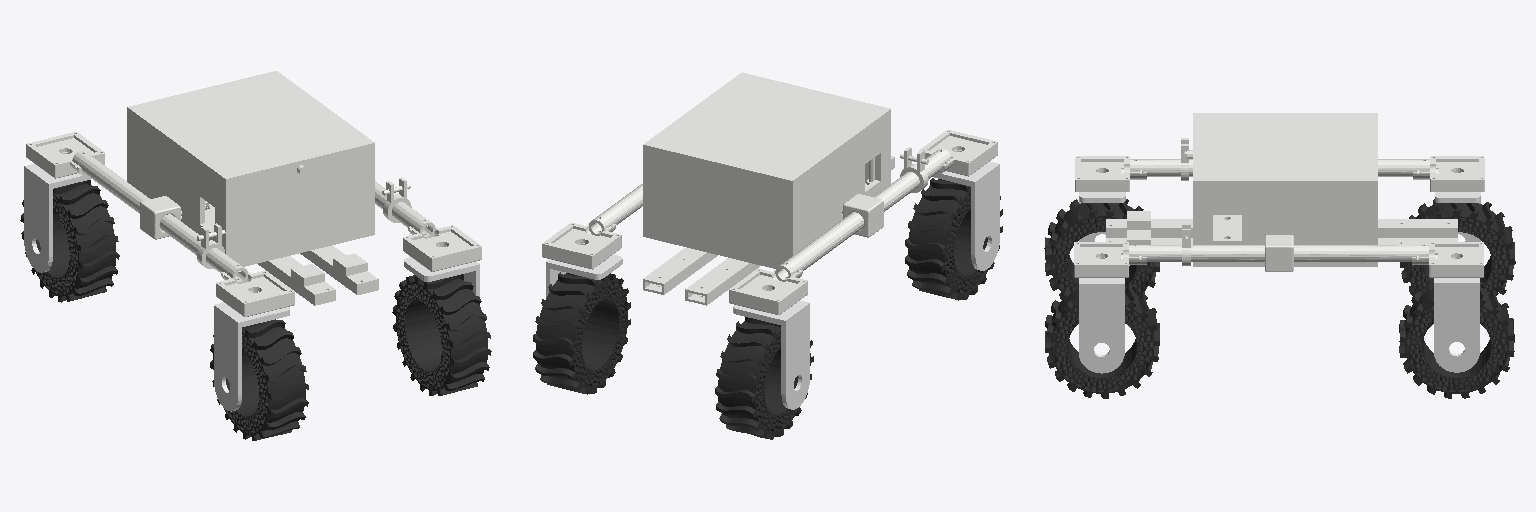
URDF robot description (rovermk2):
<?xml version="1.0" encoding="utf-8"?>
<robot name="rovermk2">

    <!-- Base Link  -->

    <link name="base_link">
        <inertial>
            <origin xyz="1.5107E-12 -0.010391 0.059342" rpy="0 0 0" />
            <!-- <mass value="3.9684" />
            <inertia ixx="0.068308" ixy="2.8787E-12" ixz="-8.8418E-14" iyy="0.03715"
                iyz="0.00010785" izz="0.091228" /> -->
            <mass value="20.0" />
            <inertia ixx="0.34424" ixy="1.4503E-11" ixz="-4.4546E-13"
                iyy="0.18723"
                iyz="0.00054354" izz="0.45979" />
        </inertial>
        <visual>
            <origin xyz="0 0 0" rpy="0 0 0" />
            <geometry>
                <mesh filename="package://rovermk2_description/meshes/base_link.STL" />
            </geometry>
            <material name="">
                <color rgba="0.96471 0.96471 0.95294 1" />
            </material>
        </visual>
        <collision>
            <origin xyz="0 0 0" rpy="0 0 0" />
            <geometry>
                <mesh filename="package://rovermk2_description/meshes/base_link.STL" />
            </geometry>
        </collision>
    </link>

    <!-- Suspension Links -->

    <link name="suspension_left">
        <inertial>
            <origin xyz="-0.085081 0.00042119 -0.0073347" rpy="0 0 0" />
            <!-- <mass value="0.69456" />
            <inertia ixx="0.00041573" ixy="-1.6646E-10" ixz="-3.1978E-09" iyy="0.0014467"
                iyz="2.2187E-10" izz="0.0017365" /> -->
            <mass value="5.0" />
            <inertia ixx="0.0029927" ixy="-1.1983E-09" ixz="-2.3018E-08"
                iyy="0.0104136"
                iyz="1.5973E-09" izz="0.0125038" />
        </inertial>
        <visual>
            <origin xyz="0.08875 0 0" rpy="0 0 0" />
            <geometry>
                <mesh filename="package://rovermk2_description/meshes/suspension_1.STL" />
            </geometry>
            <material name="">
                <color rgba="0.96471 0.96471 0.95294 1" />
            </material>
        </visual>
        <collision>
            <origin xyz="0 0 0" rpy="0 0 0" />
            <geometry>
                <mesh filename="package://rovermk2_description/meshes/suspension_1.STL" />
            </geometry>
        </collision>
    </link>

    <link name="suspension_right">
        <inertial>
            <origin xyz="0.0048172 -0.047933 -0.0073349" rpy="0 0 0" />
            <!-- <mass value="0.69456" />
                <inertia ixx="0.00041573" ixy="-2.7089E-10" ixz="3.1961E-09" iyy="0.0014467"
                    iyz="1.1348E-07" izz="0.0017365" /> -->
            <mass value="5.0" />
            <inertia ixx="0.0029927" ixy="-1.1983E-09" ixz="-2.3018E-08"
                iyy="0.0104136"
                iyz="1.5973E-09" izz="0.0125038" />
        </inertial>
        <visual>
            <origin xyz="0 0.0475 0" rpy="0 0 0" />
            <geometry>
                <mesh filename="package://rovermk2_description/meshes/suspension_2.STL" />
            </geometry>
            <material name="">
                <color rgba="0.96471 0.96471 0.95294 1" />
            </material>
        </visual>
        <collision>
            <origin xyz="0 0 0" rpy="0 0 0" />
            <geometry>
                <mesh filename="package://rovermk2_description/meshes/suspension_2.STL" />
            </geometry>
        </collision>
    </link>

    <!-- Suspension Joints Closed Loop thus with gazebo tags -->

    <joint name="susleft_joint" type="fixed">
        <origin xyz="-0.175 -0.01 0.043" rpy="0 0 -1.5708" />
        <parent link="base_link" />
        <child link="suspension_left" />
        <axis xyz="0 1 0" />
        <limit lower="-0.174" upper="0.174" effort="100" velocity="1" />
    </joint>

    <joint name="susright_joint" type="fixed">
        <origin xyz="0.175 -0.01 0.043" rpy="0 1.7626E-05 -1.5708" />
        <parent link="base_link" />
        <child link="suspension_right" />
        <axis xyz="0 1 0" />
        <limit lower="-0.174" upper="0.174" effort="100" velocity="1" />
    </joint>


    <!-- Steer Joints and Links -->

    <!-- Steer Front Left Joint and Link -->

    <link name="steerFL">
        <inertial>
            <origin xyz="-2.2204E-15 -0.032335 -0.05247" rpy="0 0 0" />
            <!-- <mass value="0.1576" />
            <inertia ixx="0.00057382" ixy="-5.2157E-17" ixz="-1.2839E-16" iyy="0.00051647"
                iyz="-0.00013791" izz="0.00023455" /> -->
            <mass value="1.5" />
            <inertia ixx="0.0054624" ixy="-4.9661E-16" ixz="-1.2221E-15"
                iyy="0.0049171"
                iyz="-0.0013127" izz="0.0022330" />
        </inertial>
        <visual>
            <origin xyz="0 0 0" rpy="0 0 0" />
            <geometry>
                <mesh filename="package://rovermk2_description/meshes/Steer_FL_1.STL" />
            </geometry>
            <material name="">
                <color rgba="0.96078 0.96078 0.96471 1" />
            </material>
        </visual>
        <collision>
            <origin xyz="0 0 0" rpy="0 0 0" />
            <geometry>
                <mesh filename="package://rovermk2_description/meshes/Steer_FL_1.STL" />
            </geometry>
        </collision>
    </link>
    <joint name="steerFL_joint" type="revolute">
        <origin xyz="-0.30875 0 -0.035" rpy="0 0 0" />
        <parent link="suspension_left" />
        <child link="steerFL" />
        <axis xyz="0 0 1" />
        <limit lower="-1.5708" upper="1.5708" effort="100" velocity="5.0"/>
        <dynamics damping="5.0" friction="2.0"/>
    </joint>

    <!-- Steer Front Right Joint and Link -->

    <link name="steer_FR">
        <inertial>
            <origin xyz="0.3075 0.025165 -0.08747" rpy="0 0 0" />
            <!-- <mass value="0.1576" />
            <inertia ixx="0.00057382" ixy="-5.2157E-17" ixz="-1.2839E-16" iyy="0.00051647"
                iyz="-0.00013791" izz="0.00023455" /> -->
            <mass value="1.5" />
            <inertia ixx="0.0054624" ixy="-4.9661E-16" ixz="-1.2221E-15"
                iyy="0.0049171"
                iyz="-0.0013127" izz="0.0022330" />
        </inertial>
        <visual>
            <origin xyz="-0.30751 -0.0475 0" rpy="0 0 0" />
            <geometry>
                <mesh filename="package://rovermk2_description/meshes/steer_FR.STL" />
            </geometry>
            <material name="">
                <color rgba="0.96078 0.96078 0.96471 1" />
            </material>
        </visual>
        <collision>
            <origin xyz="0 0 0" rpy="0 0 0" />
            <geometry>
                <mesh filename="package://rovermk2_description/meshes/steer_FR.STL" />
            </geometry>
        </collision>
    </link>
    <joint name="steerFR_joint" type="revolute">
        <origin xyz="-0.30751 0.0 0" rpy="0 0 3.1416" />
        <parent link="suspension_right" />
        <child link="steer_FR" />
        <axis xyz="5.9526E-05 0 1" />
        <limit lower="-1.5708" upper="1.5708" effort="100" velocity="5.0"/>
        <dynamics damping="5.0" friction="2.0"/>

    </joint>


    <!-- Steer Back Left Joint and Link -->

    <link name="steer_BL">
        <inertial>
            <origin xyz="-2.7756E-15 -0.032335 -0.05247" rpy="0 0 0" />
            <!-- <mass value="0.1576" />
            <inertia ixx="0.00057382" ixy="-5.2157E-17" ixz="-1.2839E-16" iyy="0.00051647"
                iyz="-0.00013791" izz="0.00023455" /> -->
            <mass value="1.5" />
            <inertia ixx="0.0054624" ixy="-4.9661E-16" ixz="-1.2221E-15"
                iyy="0.0049171"
                iyz="-0.0013127" izz="0.0022330" />
        </inertial>
        <visual>
            <origin xyz="0 0 0" rpy="0 0 0" />
            <geometry>
                <mesh filename="package://rovermk2_description/meshes/steer_BL.STL" />
            </geometry>
            <material name="">
                <color rgba="0.96078 0.96078 0.96471 1" />
            </material>
        </visual>
        <collision>
            <origin xyz="0 0 0" rpy="0 0 0" />
            <geometry>
                <mesh filename="package://rovermk2_description/meshes/steer_BL.STL" />
            </geometry>
        </collision>
    </link>
    <joint name="steerBL_joint" type="revolute">
        <origin xyz="0.30625 0 -0.035" rpy="0 0 0" />
        <parent link="suspension_left" />
        <child link="steer_BL" />
        <axis xyz="0 0 1" />
        <limit lower="-1.5708" upper="1.5708" effort="100" velocity="5.0"/>
        <dynamics damping="5.0" friction="2.0"/>

    </joint>

    <!-- Steer Back Right Joint and Link-->

    <link name="steer_BR">
        <inertial>
            <origin xyz="-0.30751 0.021928 -0.087669" rpy="0 0 0" />
            <!-- <mass value="0.1576" />
            <inertia ixx="0.00057382" ixy="-5.2157E-17" ixz="-1.2839E-16" iyy="0.00051647"
                iyz="-0.00013791" izz="0.00023455" /> -->
            <mass value="1.5" />
            <inertia ixx="0.0054624" ixy="-4.9661E-16" ixz="-1.2221E-15"
                iyy="0.0049171"
                iyz="-0.0013127" izz="0.0022330" />
        </inertial>

        <visual>
            <origin xyz="0.30625 -0.0475 0" rpy="0 0 0" />
            <geometry>
                <mesh filename="package://rovermk2_description/meshes/steer_BR.STL" />
            </geometry>
            <material name="">
                <color rgba="0.96078 0.96078 0.96471 1" />
            </material>
        </visual>
        <collision>
            <origin xyz="0 0 0" rpy="0 0 0" />
            <geometry>
                <mesh filename="package://rovermk2_description/meshes/steer_BR.STL" />
            </geometry>
        </collision>
    </link>
    <joint name="steerBR_joint" type="revolute">
        <origin xyz="0.30625 0.0 0.00019885" rpy="0 0 3.1416" />
        <parent link="suspension_right" />
        <child link="steer_BR" />
        <axis xyz="5.9526E-05 0 1" />
        <limit lower="-1.5708" upper="1.5708" effort="100" velocity="5.0"/>
        <dynamics damping="5.0" friction="2.0"/>

    </joint>


    <!-- All Wheels Joints and Links -->

    <link name="wheelFL">
        <inertial>
            <origin xyz="-1.2482E-05 1.1067E-05 -9.9464E-06" rpy="0 0 0" />
            <!-- <mass value="0.57698" />
            <inertia ixx="0.0021487" ixy="-1.7024E-08" ixz="-8.7398E-08" iyy="0.0038235"
                iyz="8.3831E-09" izz="0.0021487" /> -->
            <mass value="2.0" />
            <inertia ixx="0.0074488" ixy="-5.9009E-08" ixz="-3.0294E-07"
                iyy="0.0132488"
                iyz="2.9057E-08" izz="0.0074488" />
        </inertial>
        <visual>
            <origin xyz="0 0 0" rpy="0 0 0" />
            <geometry>
                <mesh filename="package://rovermk2_description/meshes/wheelFL.STL" />
            </geometry>
            <material name="">
                <color rgba="0.24706 0.24706 0.24706 1" />
            </material>
        </visual>
        <collision>
            <origin xyz="0 0 0" rpy="0 0 0" />
            <geometry>
                <mesh filename="package://rovermk2_description/meshes/wheelFL.STL" />
            </geometry>
        </collision>
    </link>
    <joint name="wheelFL_joint" type="continuous">
        <origin xyz="0 0.008 -0.127" rpy="0 -0.031506 3.1416" />
        <parent link="steerFL" />
        <child link="wheelFL" />
        <axis xyz="0 1 0" />
        <!-- <limit lower="-1.5708" upper="1.5708" effort="100" velocity="0.25"/> -->
    </joint>

    <link name="wheelBL">
        <inertial>
            <origin xyz="-1.4946E-05 8.1816E-06 -7.8177E-06" rpy="0 0 0" />
            <!-- <mass value="0.57701" />
            <inertia ixx="0.0021482" ixy="-3.9981E-08" ixz="-7.3417E-08" iyy="0.0038226"
                iyz="-2.1036E-08" izz="0.0021482" /> -->
            <mass value="2.0" />
            <inertia ixx="0.0074488" ixy="-5.9009E-08" ixz="-3.0294E-07"
                iyy="0.0132488"
                iyz="2.9057E-08" izz="0.0074488" />
        </inertial>
        <visual>
            <origin xyz="0 0 0" rpy="0 0 0" />
            <geometry>
                <mesh filename="package://rovermk2_description/meshes/wheelBL.STL" />
            </geometry>
            <material name="">
                <color rgba="0.24706 0.24706 0.24706 1" />
            </material>
        </visual>
        <collision>
            <origin xyz="0 0 0" rpy="0 0 0" />
            <geometry>
                <mesh filename="package://rovermk2_description/meshes/wheelBL.STL" />
            </geometry>
        </collision>
    </link>
    <joint name="wheelBL_joint" type="continuous">
        <origin xyz="0 0.008 -0.127" rpy="0 -0.19461 3.1416" />
        <parent link="steer_BL" />
        <child link="wheelBL" />
        <axis xyz="0 1 0" />
        <!-- <limit lower="0" upper="0" effort="0" velocity="0"/> -->
    </joint>
    <link name="wheelFR">
        <inertial>
            <origin xyz="-1.5082E-05 8.1816E-06 -6.5794E-06" rpy="0 0 0" />
            <!-- <mass value="0.57701" />
            <inertia ixx="0.0021482" ixy="-3.9981E-08" ixz="-7.3417E-08" iyy="0.0038226"
                iyz="-2.1036E-08" izz="0.0021482" /> -->
            <mass value="2.0" />
            <inertia ixx="0.0074488" ixy="-5.9009E-08" ixz="-3.0294E-07"
                iyy="0.0132488"
                iyz="2.9057E-08" izz="0.0074488" />
        </inertial>
        <visual>
            <origin xyz="0 0 0" rpy="0 0 0" />
            <geometry>
                <mesh filename="package://rovermk2_description/meshes/wheelFR.STL" />
            </geometry>
            <material name="">
                <color rgba="0.24706 0.24706 0.24706 1" />
            </material>
        </visual>
        <collision>
            <origin xyz="0 0 0" rpy="0 0 0" />
            <geometry>
                <mesh filename="package://rovermk2_description/meshes/wheelFR.STL" />
            </geometry>
        </collision>
    </link>
    <joint name="wheelFR_joint" type="continuous">
        <origin xyz="0.0 0.0 -0.162" rpy="0 -0.48916 0" />
        <parent link="steer_FR" />
        <child link="wheelFR" />
        <axis xyz="0 1 0" />
        <!-- <limit lower="0" upper="0" effort="0" velocity="0"/> -->
    </joint>
    <link name="wheelBR">
        <inertial>
            <origin xyz="-1.3322E-05 9.8794E-06 -8.7944E-06" rpy="0 0 0" />
            <!-- <mass value="0.57701" />
            <inertia ixx="0.0021482" ixy="-3.9981E-08" ixz="-7.3417E-08" iyy="0.0038226"
                iyz="-2.1036E-08" izz="0.0021482" /> -->
            <mass value="2.0" />
            <inertia ixx="0.0074488" ixy="-5.9009E-08" ixz="-3.0294E-07"
                iyy="0.0132488"
                iyz="2.9057E-08" izz="0.0074488" />
        </inertial>
        <visual>
            <origin xyz="0 0 0" rpy="0 0 0" />
            <geometry>
                <mesh filename="package://rovermk2_description/meshes/wheelBR.STL" />
            </geometry>
            <material name="">
                <color rgba="0.24706 0.24706 0.24706 1" />
            </material>
        </visual>
        <collision>
            <origin xyz="0 0 0" rpy="0 0 0" />
            <geometry>
                <mesh filename="package://rovermk2_description/meshes/wheelBR.STL" />
            </geometry>
        </collision>
    </link>
    <joint name="wheelBR_joint" type="continuous">
        <origin xyz="0 0.0 -0.1622" rpy="0 -0.069204 0" />
        <parent link="steer_BR" />
        <child link="wheelBR" />
        <axis xyz="0 1 0" />
        <!-- <limit lower="0" upper="0" effort="0" velocity="0"/> -->
    </joint>

</robot>

--- What the picture shows (computed from the rendered views, not written in the file) ---
3 views of the same robot in one strip: view 1: azimuth 30°, elevation 25°; view 2: azimuth 150°, elevation 25°; view 3: azimuth 270°, elevation 25° (orthographic).
Model rovermk2 with 11 links and 10 joints (4 revolute, 4 continuous, 2 fixed), rooted at base_link, posed every joint at zero.
Visible links, largest first — view 1: base_link, suspension_left, wheelBR, wheelBL, wheelFL, suspension_right, steer_BL, steerFL, steer_BR; view 2: base_link, suspension_left, wheelFR, wheelFL, wheelBL, suspension_right, steerFL, steer_BL, steer_FR; view 3: base_link, suspension_right, wheelFR, suspension_left, wheelBR, wheelFL, wheelBL, steer_BR, steer_FR, steer_BL, steerFL.
Boxes of the visible links, x1=… form: base_link: x1=127, y1=71, x2=378, y2=305; suspension_left: x1=26, y1=132, x2=294, y2=316; wheelBR: x1=392, y1=274, x2=491, y2=395; wheelBL: x1=210, y1=319, x2=308, y2=440; wheelFL: x1=20, y1=180, x2=119, y2=302; suspension_right: x1=375, y1=177, x2=481, y2=271; steer_BL: x1=214, y1=302, x2=289, y2=411; steerFL: x1=24, y1=164, x2=90, y2=272; steer_BR: x1=404, y1=257, x2=479, y2=296; base_link: x1=643, y1=72, x2=894, y2=305; suspension_left: x1=729, y1=130, x2=997, y2=314; wheelFR: x1=533, y1=272, x2=630, y2=394; wheelFL: x1=715, y1=317, x2=813, y2=439; wheelBL: x1=905, y1=178, x2=1002, y2=300; suspension_right: x1=542, y1=184, x2=642, y2=269; steerFL: x1=733, y1=301, x2=809, y2=409; steer_BL: x1=933, y1=162, x2=999, y2=270; steer_FR: x1=546, y1=255, x2=622, y2=297; base_link: x1=1106, y1=113, x2=1457, y2=266; suspension_right: x1=1074, y1=224, x2=1483, y2=277; wheelFR: x1=1399, y1=282, x2=1514, y2=398; suspension_left: x1=1075, y1=138, x2=1484, y2=191; wheelBR: x1=1045, y1=282, x2=1159, y2=398; wheelFL: x1=1400, y1=199, x2=1515, y2=295; wheelBL: x1=1044, y1=199, x2=1159, y2=299; steer_BR: x1=1079, y1=278, x2=1124, y2=373; steer_FR: x1=1434, y1=278, x2=1479, y2=372; steer_BL: x1=1079, y1=192, x2=1125, y2=241; steerFL: x1=1435, y1=192, x2=1480, y2=241.
Bounding box of the posed robot: 0.4532 × 0.8157 × 0.3844 m (x, y, z).
11 mesh visuals loaded from 11 distinct referenced files (11 binary STL).
